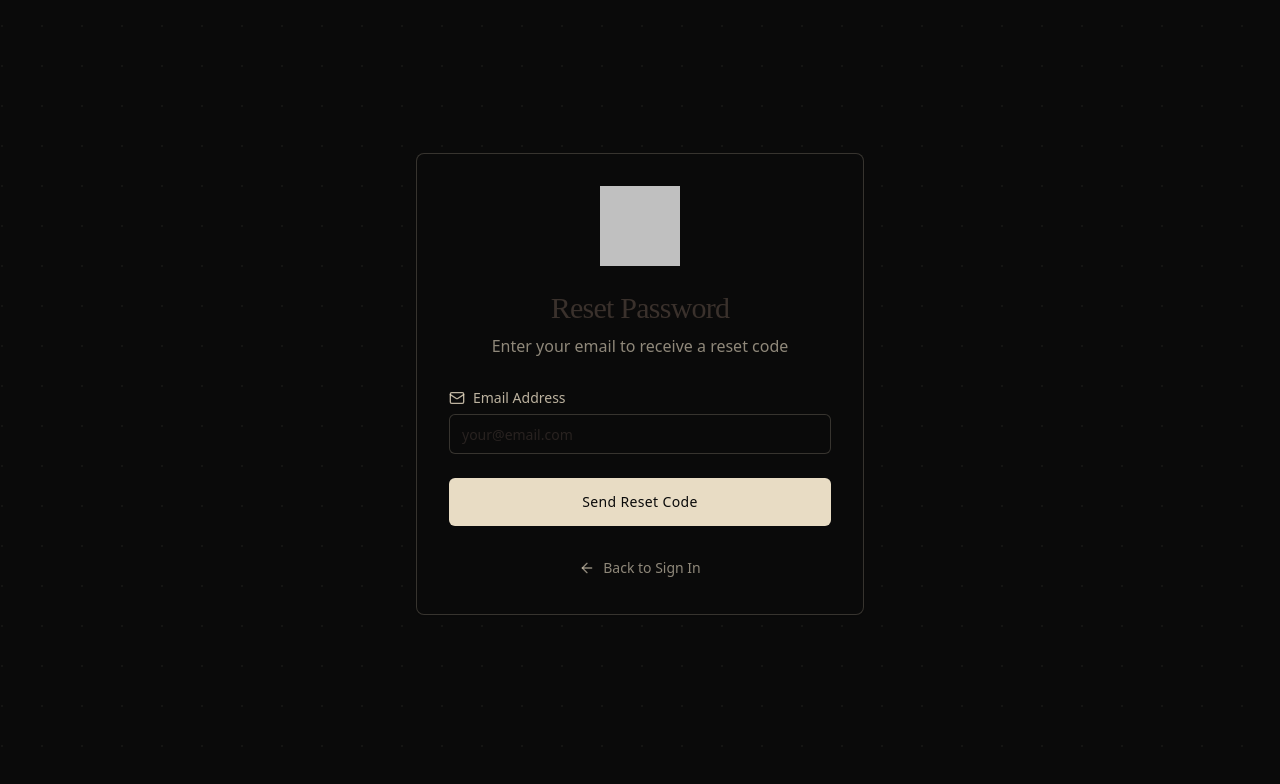
it: ForgotPasswordPage › lets the user reset the form after a successful request
Step 1. Type "chef@example.com" into the field labelled "Email Address" → (640, 434), box [449,414,831,454]
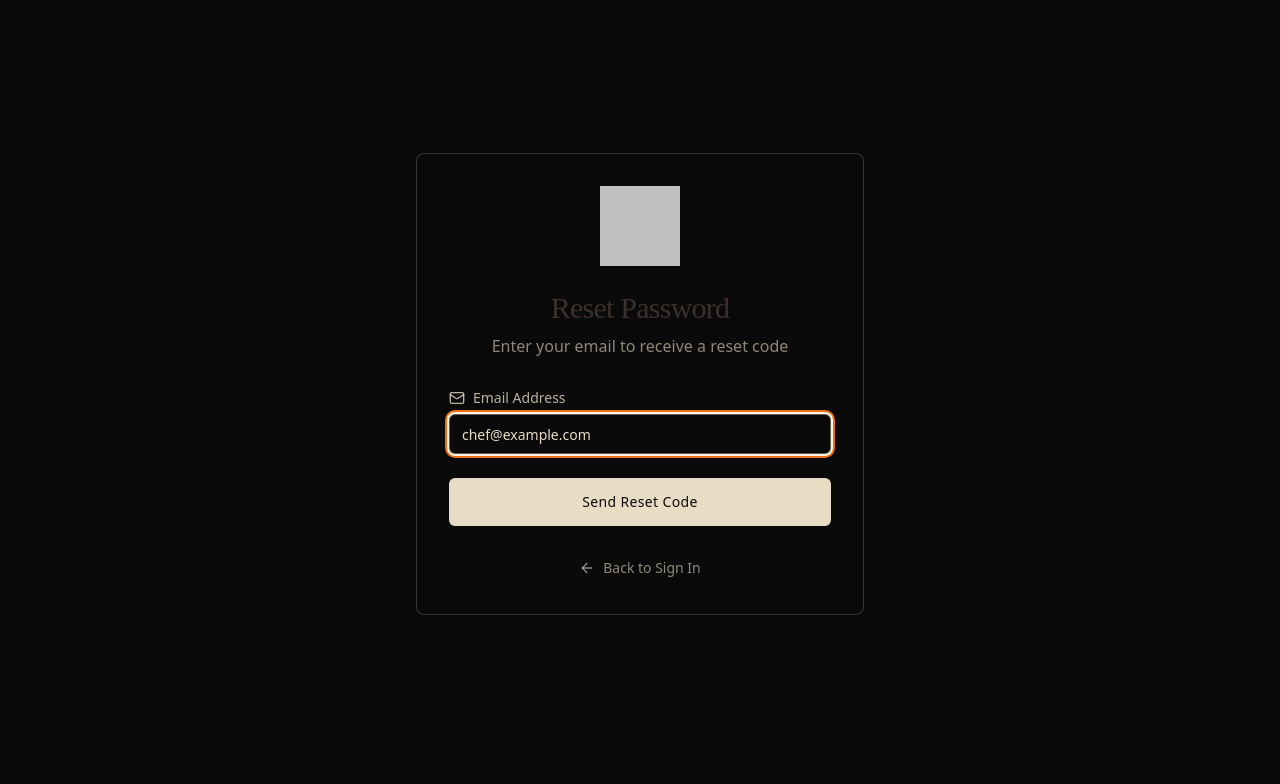
Step 2. Click the button "Send Reset Code" → (640, 502), box [449,478,831,526]
(page scrolled)
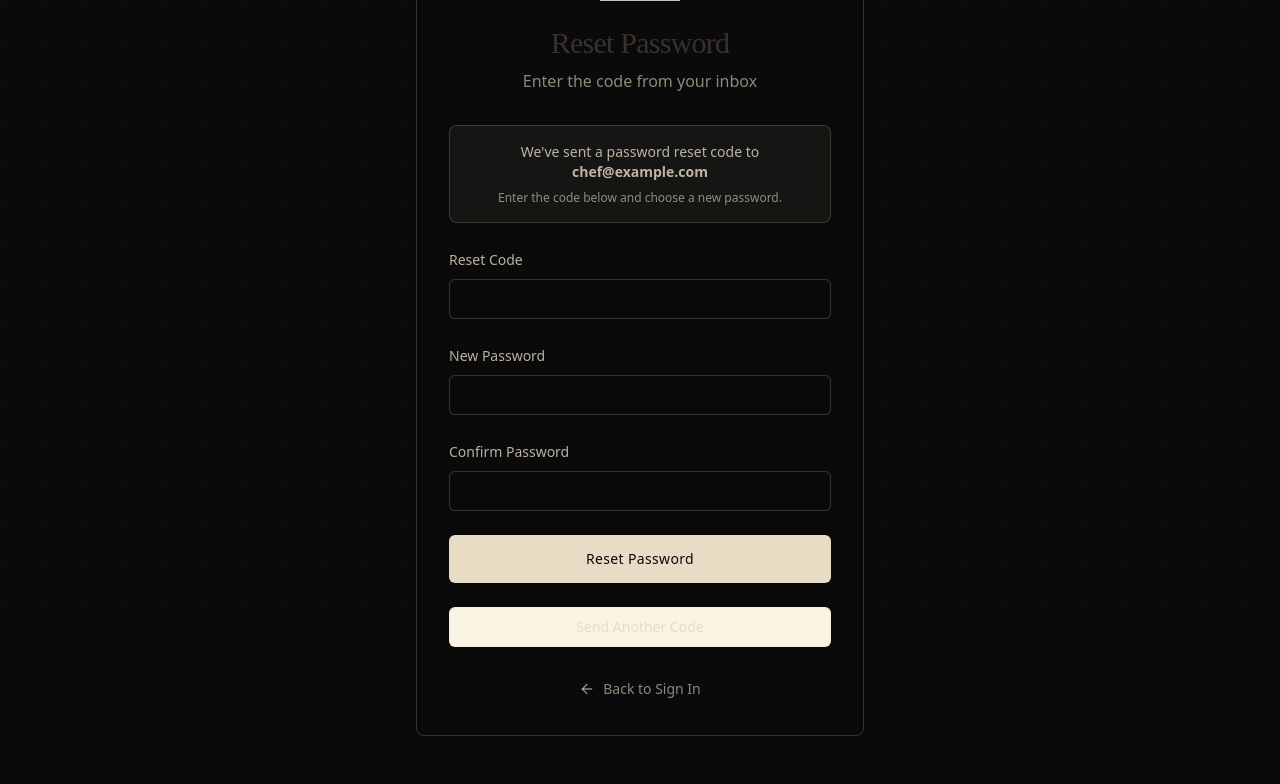
Check: the button "Send Another Code" is shown
Step 3. Click the button "Send Another Code" → (640, 627), box [449,607,831,647]
(page scrolled)
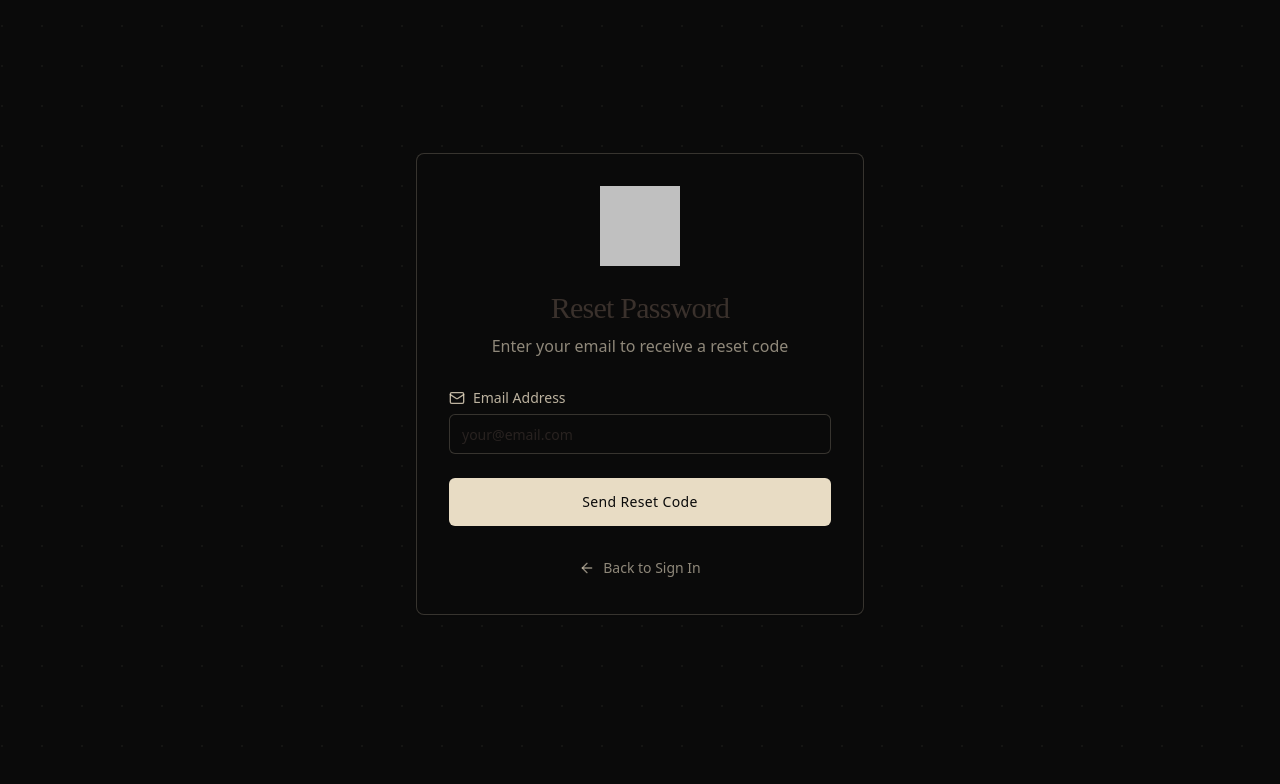
Check: the field labelled "Email Address" is empty, box [449,414,831,454]
